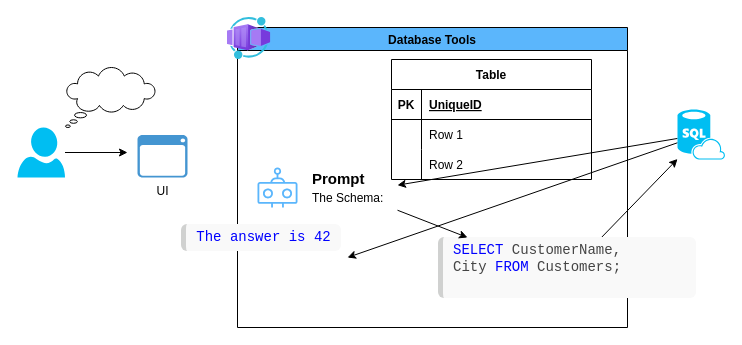
This 742x345 diagram has some shape labels left out. Here are the shapes that lost their labels. From the top down, the centre of each, then its label:
At point 110,97: "Question".
At point 40,152: "User".
